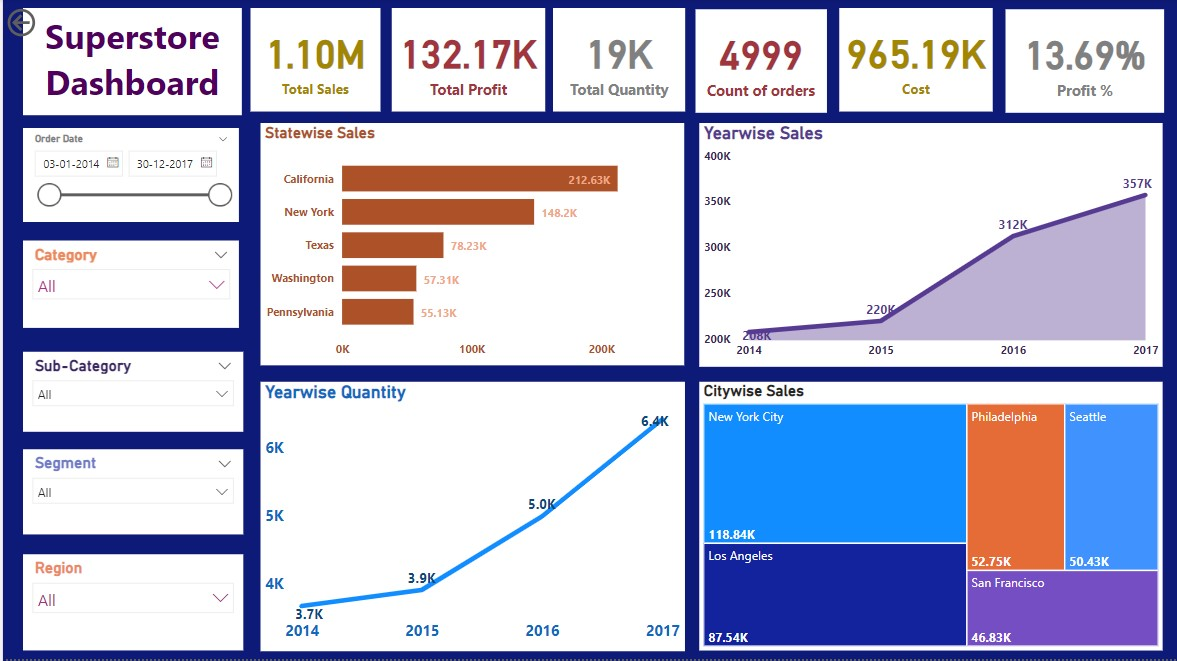

This screenshot's page, from the dashboard's own definition file:
{"tool":"powerbi","page":{"name":"Insights 3","canvas":[1280,720],"ordinal":2},"visuals":[{"type":"textbox","box":[21.8,10.9,238.3,117.1],"z":0},{"type":"barChart","title":"Statewise Sales","fields":{"Category":["Sample - Superstore.State"],"Y":["Sum(Sample - Superstore.Sales)"]},"box":[280.5,136.2,461.6,264.2],"z":1000},{"type":"actionButton","box":[0,7.3,100.2,40.3],"z":2000},{"type":"treemap","title":"Citywise Sales","fields":{"Group":["Sample - Superstore.City"],"Values":["Sum(Sample - Superstore.Sales)"]},"box":[758.5,418,505.2,292.8],"z":3000},{"type":"lineChart","title":"Yearwise Quantity","fields":{"Category":["Sample - Superstore.Order Date.Variation.Date Hierarchy.Year"],"Y":["Sum(Sample - Superstore.Quantity)"]},"box":[279.9,418.1,462.1,293.4],"z":4000},{"type":"areaChart","title":"Yearwise Sales","fields":{"Category":["Sample - Superstore.Order Date.Variation.Date Hierarchy.Year"],"Y":["Sum(Sample - Superstore.Sales)"]},"box":[758.5,136.2,505.2,265.5],"z":5000},{"type":"slicer","fields":{"Values":["Sample - Superstore.Region"]},"box":[21.8,606,239.7,104.9],"z":6000},{"type":"card","fields":{"Values":["Sum(Sample - Superstore.Sales)"]},"box":[269.6,10.9,141.6,113],"z":7000},{"type":"card","fields":{"Values":["Sum(Sample - Superstore.Profit)"]},"box":[423.5,10.9,167.5,113],"z":8000},{"type":"card","fields":{"Values":["Sum(Sample - Superstore.Quantity)"]},"box":[599.1,10.9,144.3,113],"z":9000},{"type":"card","fields":{"Values":["Category.Count of orders"]},"box":[754.4,12.3,143,113],"z":10000},{"type":"card","fields":{"Values":["Category.Cost"]},"box":[911,10.9,167.5,113],"z":11000},{"type":"card","fields":{"Values":["Category.Profit %"]},"box":[1092.1,12.3,172.9,113],"z":12000},{"type":"slicer","fields":{"Values":["Sample - Superstore.Order Date"]},"box":[21.8,141.6,235.6,102.1],"z":13000},{"type":"slicer","fields":{"Values":["Category.Category"]},"box":[21.8,264.2,235.6,95.3],"z":14000},{"type":"slicer","fields":{"Values":["Sample - Superstore.Sub-Category"]},"box":[21.8,385.4,239.7,87.1],"z":15000},{"type":"slicer","fields":{"Values":["Sample - Superstore.Segment"]},"box":[21.8,491.6,239.7,92.6],"z":16000}]}

Visuals, with their boxes in screenshot pixels (x1, y1, x2, y2), scaled from the page's 1280x720 canvas onto the 1177x661 screenshot:
textbox: (20,10,239,118)
"Statewise Sales" barChart: (258,125,682,368)
actionButton: (0,7,92,44)
"Citywise Sales" treemap: (697,384,1162,653)
"Yearwise Quantity" lineChart: (257,384,682,653)
"Yearwise Sales" areaChart: (697,125,1162,369)
slicer - Sample - Superstore.Region: (20,556,240,653)
card - Sum(Sample - Superstore.Sales): (248,10,378,114)
card - Sum(Sample - Superstore.Profit): (389,10,543,114)
card - Sum(Sample - Superstore.Quantity): (551,10,684,114)
card - Category.Count of orders: (694,11,825,115)
card - Category.Cost: (838,10,992,114)
card - Category.Profit %: (1004,11,1163,115)
slicer - Sample - Superstore.Order Date: (20,130,237,224)
slicer - Category.Category: (20,243,237,330)
slicer - Sample - Superstore.Sub-Category: (20,354,240,434)
slicer - Sample - Superstore.Segment: (20,451,240,536)
